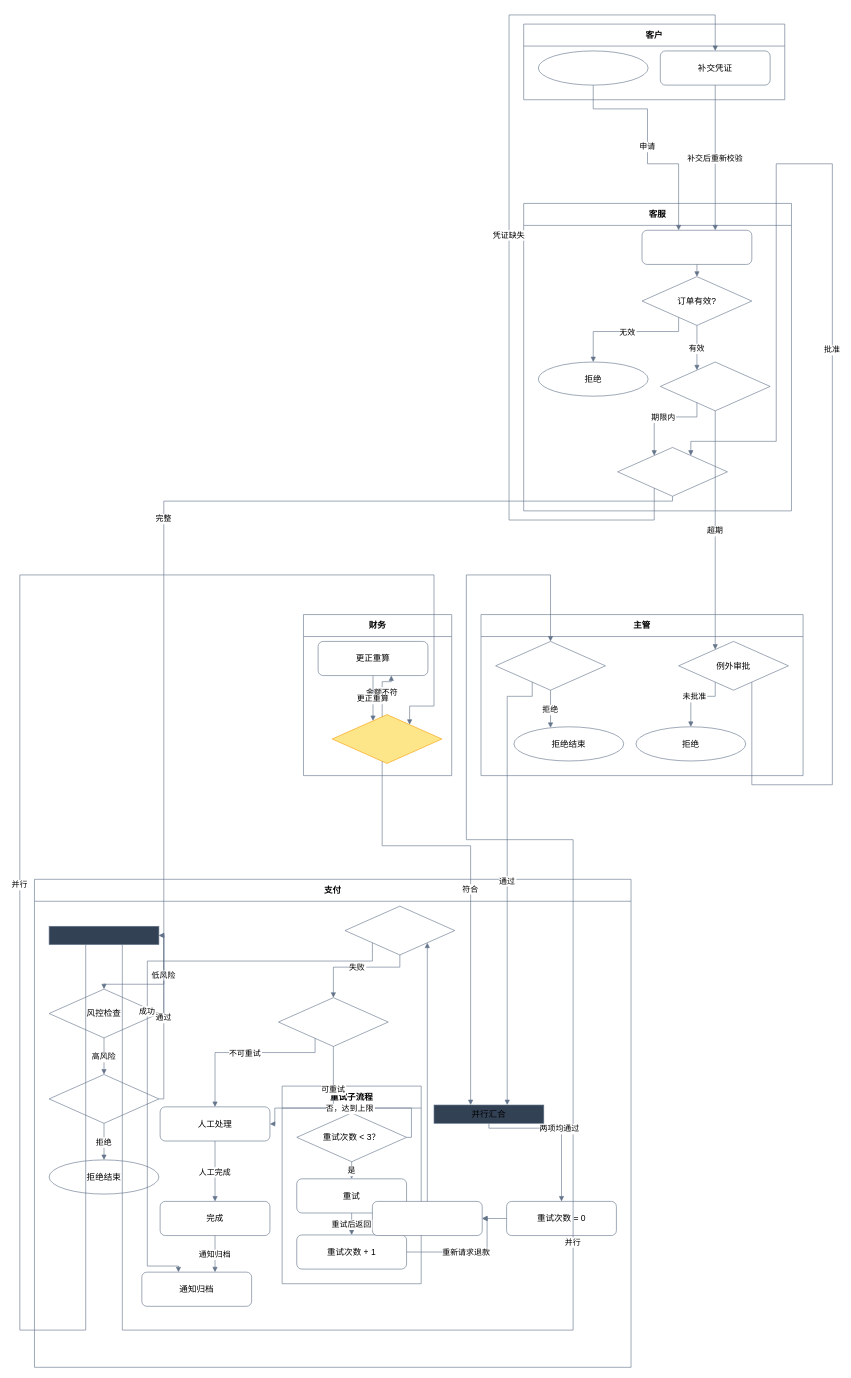
Image size: 851x1378. Some labels were removed from this diagram. The shapes that lost their labels are listed below. From the top down, each one's centre as x and y in pixels, then its label:
At point 593,67: "申请退款".
At point 696,247: "校验订单".
At point 715,386: "在期限内?".
At point 672,471: "凭证完整?".
At point 550,665: "主管审核".
At point 387,738: "财务核算".
At point 103,935: "并行开始".
At point 399,930: "退款成功?".
At point 333,1021: "可重试?".
At point 103,1098: "人工复核".
At point 427,1218: "退款".
